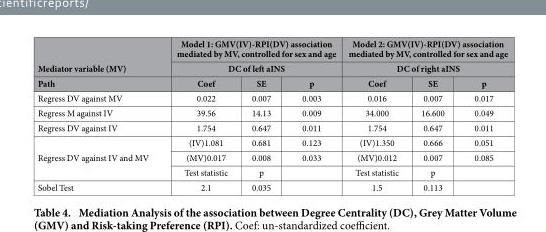table: (36, 37, 507, 192)
table column: (36, 37, 161, 192), (161, 37, 238, 192), (341, 37, 409, 192), (285, 37, 341, 192), (409, 37, 458, 192), (458, 37, 507, 192), (238, 37, 285, 192)
table column header: (36, 37, 507, 90)
table row: (36, 37, 507, 60), (36, 60, 507, 75), (36, 75, 507, 90), (36, 90, 507, 105), (36, 119, 507, 134), (36, 134, 507, 149), (36, 149, 507, 164), (36, 164, 507, 179), (36, 105, 507, 119), (36, 179, 507, 192)
table spanning cell: (161, 37, 341, 75), (36, 37, 161, 90), (341, 37, 507, 75), (36, 134, 161, 179)
